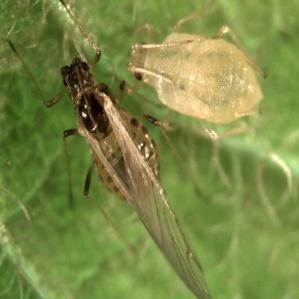Green peach aphid: (11, 14, 209, 293), (120, 13, 275, 144)
